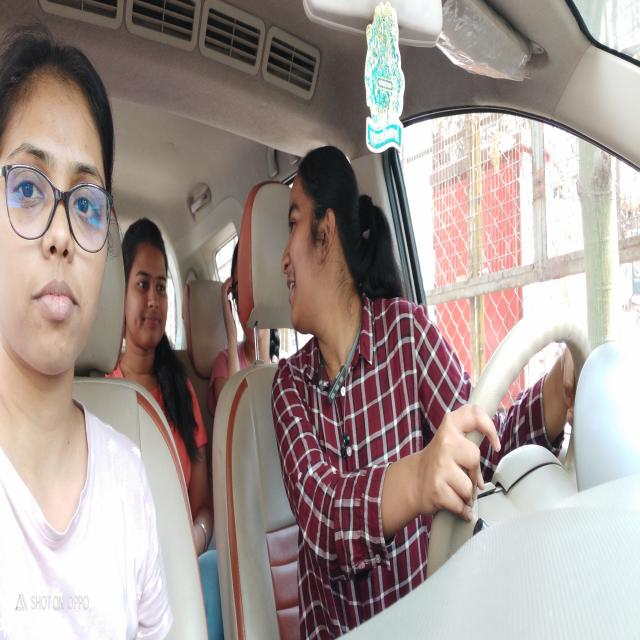LeftRight: (282, 159, 357, 324)
person: (2, 64, 108, 376), (130, 228, 175, 355), (224, 252, 249, 352)
talking: (283, 278, 300, 308)
